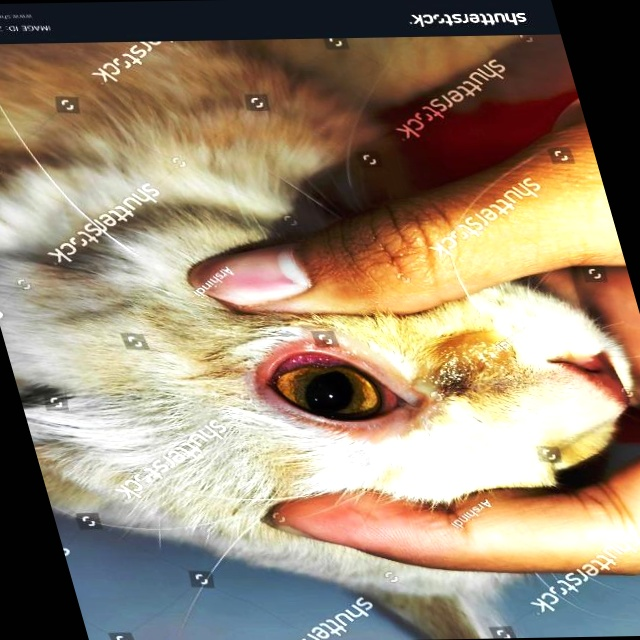eye_infection: (256, 347, 418, 431)
